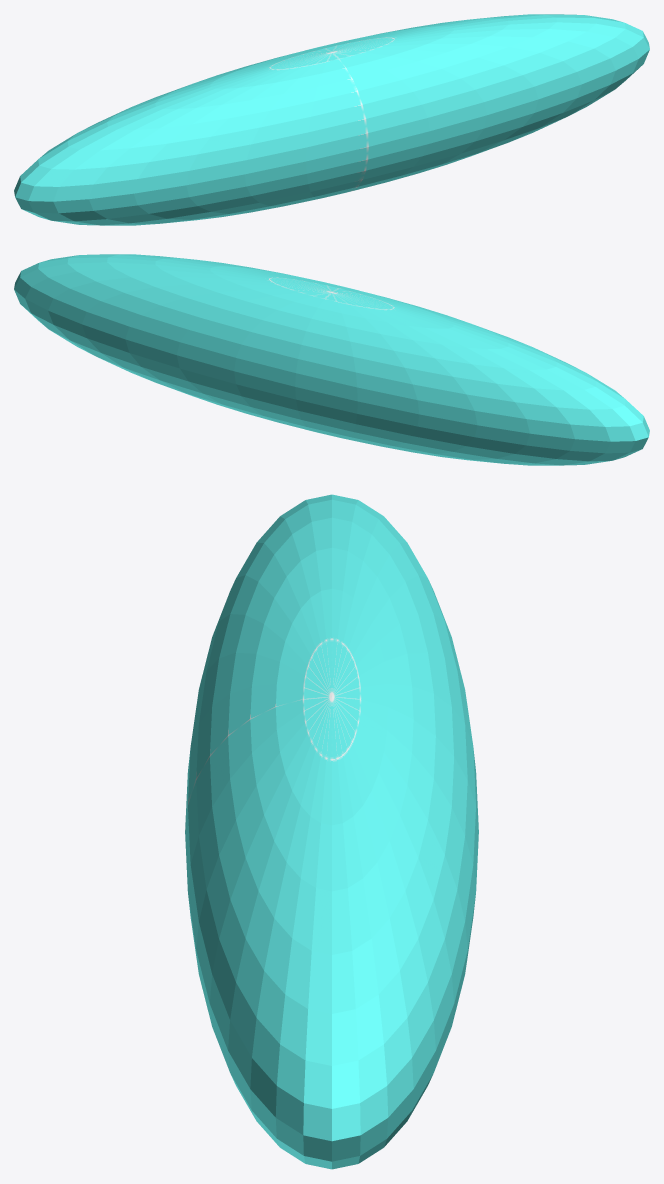
Rendered from Bullet.obj.
The picture shows the model from 3 angles, top to bottom: view 1: azimuth 30°, elevation 25°; view 2: azimuth 150°, elevation 25°; view 3: azimuth 270°, elevation 25°; orthographic projection. The views are drawn at different scales.
Visible parts, largest first — view 1: 球; view 2: 球; view 3: 球.
Part boxes in pixels (x1,y1,x2,y2): 球: (14, 14, 649, 225); 球: (14, 254, 649, 465); 球: (185, 494, 478, 1169).
Bounding box in the file's own units: 1.01 × 0.2059 × 0.2028.
